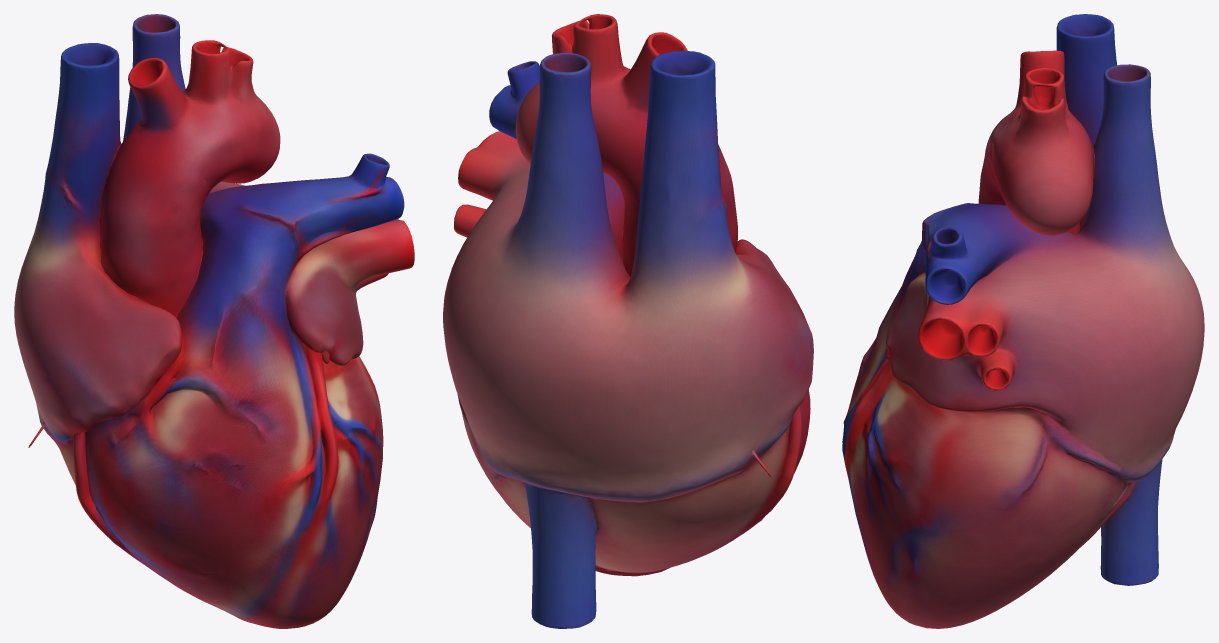
Rendered from anatomical-human-heart.glb.
3 views of the same model, side by side, from view 1: azimuth 30°, elevation 25°; view 2: azimuth 150°, elevation 25°; view 3: azimuth 270°, elevation 25° (orthographic). The views are drawn at different scales.
Parts seen in each view (by area): view 1: Mesh; view 2: Mesh; view 3: Mesh.
Part boxes in pixels (x1=…): Mesh: x1=14, y1=14, x2=414, y2=628; Mesh: x1=443, y1=14, x2=813, y2=628; Mesh: x1=842, y1=14, x2=1204, y2=628.
Bounding box in the file's own units: 1.2 × 1.89 × 1.16.
1 material, 1 textured.
